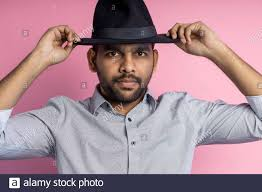Indian_Male: (86, 36, 166, 99)
